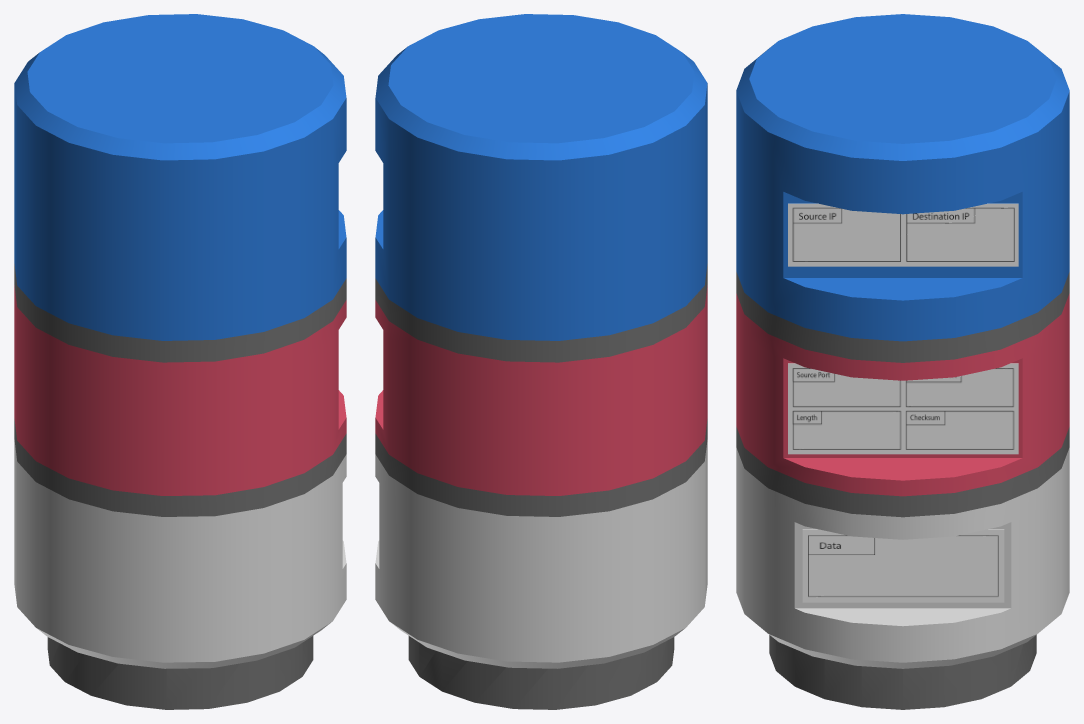
Rendered from udp_datagram_model_flat.fbx.
3 renders of one model, left to right at view 1: azimuth 30°, elevation 25°; view 2: azimuth 150°, elevation 25°; view 3: azimuth 270°, elevation 25°, orthographic.
Parts seen in each view (by area): view 1: udp_datagram_final1; view 2: udp_datagram_final1; view 3: udp_datagram_final1, udp_label, payload_label, ip_label.
Part boxes in pixels (box(x1,y1,x2,y2)): udp_datagram_final1: box(14, 14, 346, 709); udp_datagram_final1: box(375, 14, 707, 709); udp_datagram_final1: box(736, 14, 1069, 709); udp_label: box(788, 363, 1018, 454); payload_label: box(802, 529, 1004, 602); ip_label: box(788, 203, 1018, 266).
Bounding box in the file's own units: 0.4739 × 0.9007 × 0.4739.
Materials: 8 (3 with a texture image).
